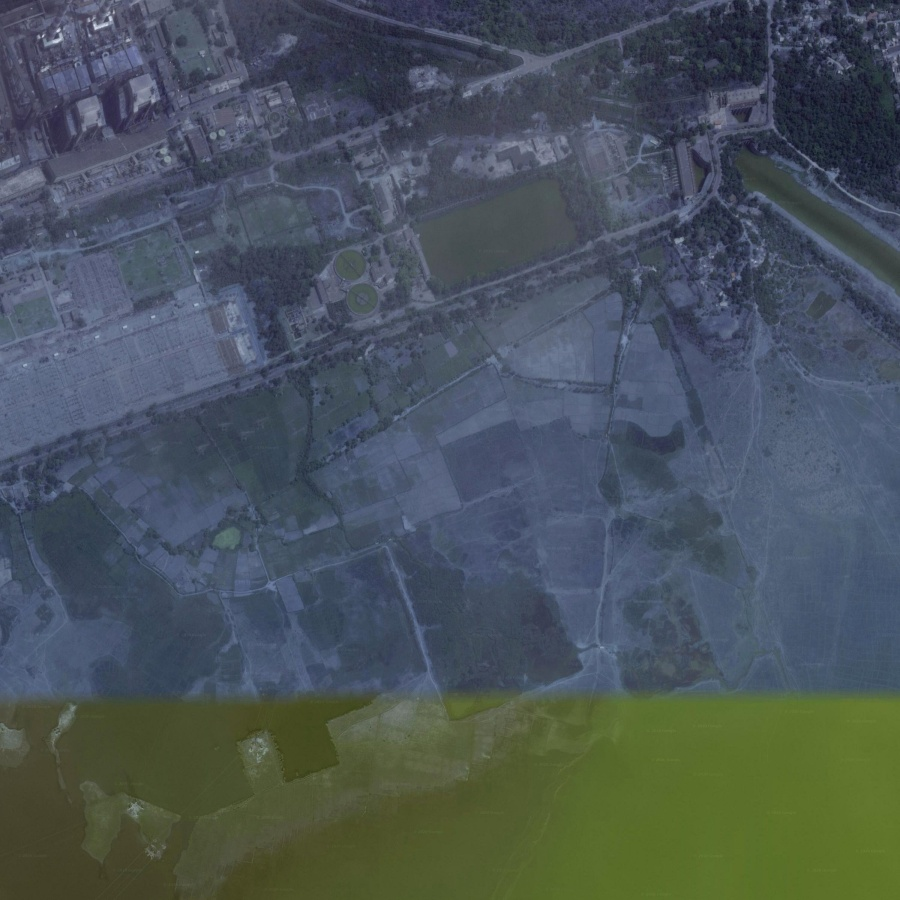PowerPlant: (404, 157, 586, 305)
